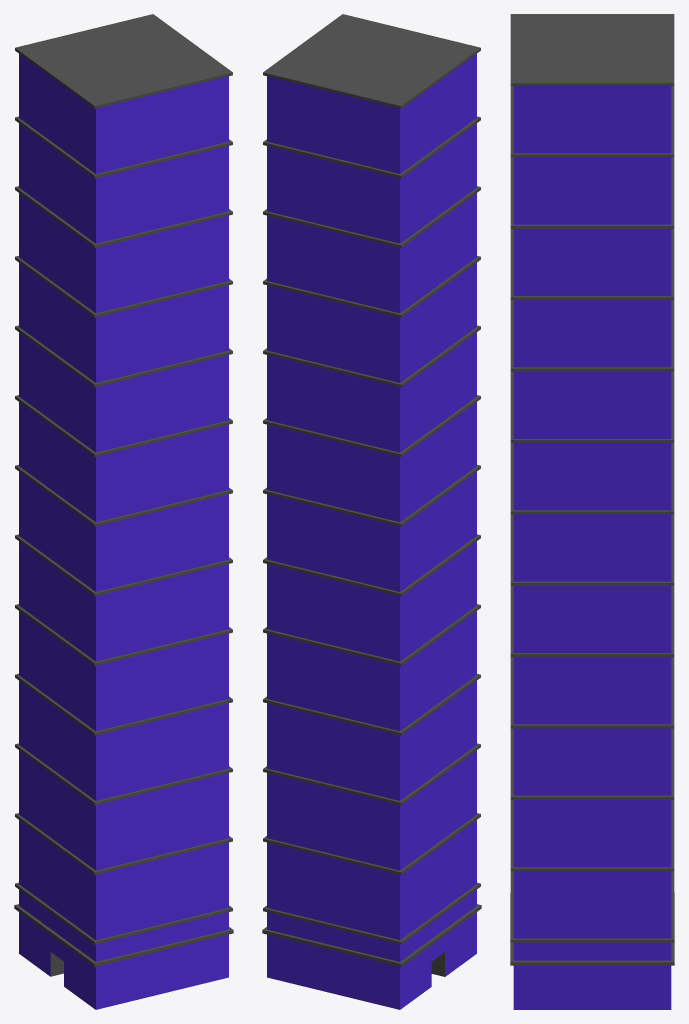
Rendered from BigSkyscraper.fbx.
The picture shows the model from 3 angles, left to right: view 1: azimuth 30°, elevation 25°; view 2: azimuth 150°, elevation 25°; view 3: azimuth 270°, elevation 25°; orthographic projection. The views are drawn at different scales.
Visible parts, largest first — view 1: SkyscraperTemplate.002; view 2: SkyscraperTemplate.002; view 3: SkyscraperTemplate.002.
Part boxes in pixels (bbox=[...]): SkyscraperTemplate.002: bbox=[14, 14, 233, 1009]; SkyscraperTemplate.002: bbox=[262, 14, 481, 1009]; SkyscraperTemplate.002: bbox=[510, 14, 674, 1009].
Bounding box in the file's own units: 1254 × 1254 × 7800.
